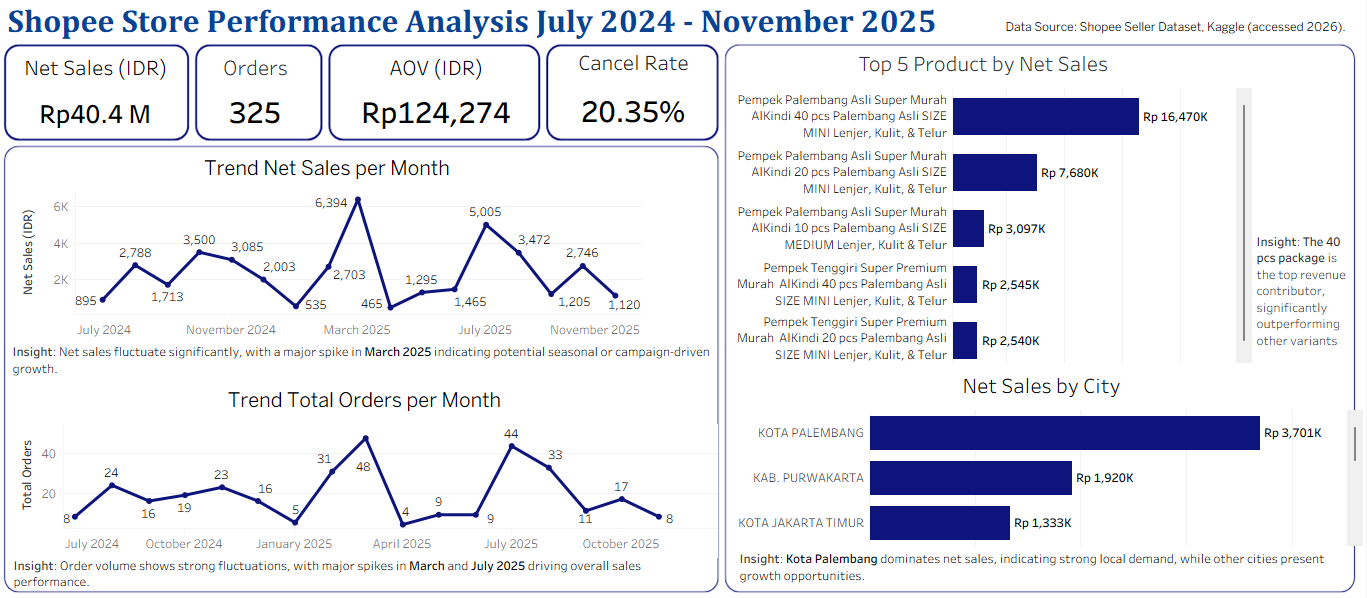

Layout of this report page (visuals, bound fields, positions):
{"tool":"tableau","page":{"name":"Dashboard 1","canvas":[1366,600],"ordinal":0},"visuals":[{"type":"image","param":"C:/Users/ASUS/Downloads/Desain tanpa judul (2).png","box":[0,1,1360,597]},{"type":"text","box":[5,2,956,41]},{"type":"text","box":[1003,9.8,354,37.2]},{"type":"worksheet","title":"KPI-Cancel Rate","mark":"Automatic","box":[566,46,153,93]},{"type":"worksheet","title":"Top 5 Product","mark":"Automatic","rows":["nama_produk"],"cols":["net_sales"],"box":[732,47,520,318]},{"type":"worksheet","title":"KPI-Net Sales","mark":"Automatic","box":[15,51,161,89]},{"type":"worksheet","title":"KPI-Orders","mark":"Automatic","box":[215,51,89,84]},{"type":"worksheet","title":"KPI-AOV","mark":"Automatic","box":[357,51,179,86]},{"type":"worksheet","title":"Trend-Net Sales","mark":"Automatic","rows":["net_sales"],"cols":["order_month"],"box":[12,153,630,193]},{"type":"text","box":[1254,223,100,142]},{"type":"text","box":[10,344,708,36]},{"type":"worksheet","title":"Sales by City","mark":"Automatic","rows":["kota_kabupaten"],"cols":["net_sales"],"box":[737,369,626,179]},{"type":"worksheet","title":"Trend-Orders","mark":"Automatic","rows":["Calculation_1819735768536227840"],"cols":["order_month"],"box":[11,385,707,175]},{"type":"text","box":[737,551,614,36]},{"type":"text","box":[11,557,707,37]}]}

Visuals, with their boxes in screenshot pixels (x1, y1, x2, y2), scaled from the page's 1366x600 canvas onto the 1367x598 screenshot:
image: [left=0, top=1, right=1361, bottom=596]
text: [left=5, top=2, right=962, bottom=43]
text: [left=1004, top=10, right=1358, bottom=47]
"KPI-Cancel Rate" worksheet: [left=566, top=46, right=720, bottom=139]
"Top 5 Product" worksheet: [left=733, top=47, right=1253, bottom=364]
"KPI-Net Sales" worksheet: [left=15, top=51, right=176, bottom=140]
"KPI-Orders" worksheet: [left=215, top=51, right=304, bottom=135]
"KPI-AOV" worksheet: [left=357, top=51, right=536, bottom=137]
"Trend-Net Sales" worksheet: [left=12, top=152, right=642, bottom=345]
text: [left=1255, top=222, right=1355, bottom=364]
text: [left=10, top=343, right=719, bottom=379]
"Sales by City" worksheet: [left=738, top=368, right=1364, bottom=546]
"Trend-Orders" worksheet: [left=11, top=384, right=719, bottom=558]
text: [left=738, top=549, right=1352, bottom=585]
text: [left=11, top=555, right=719, bottom=592]
